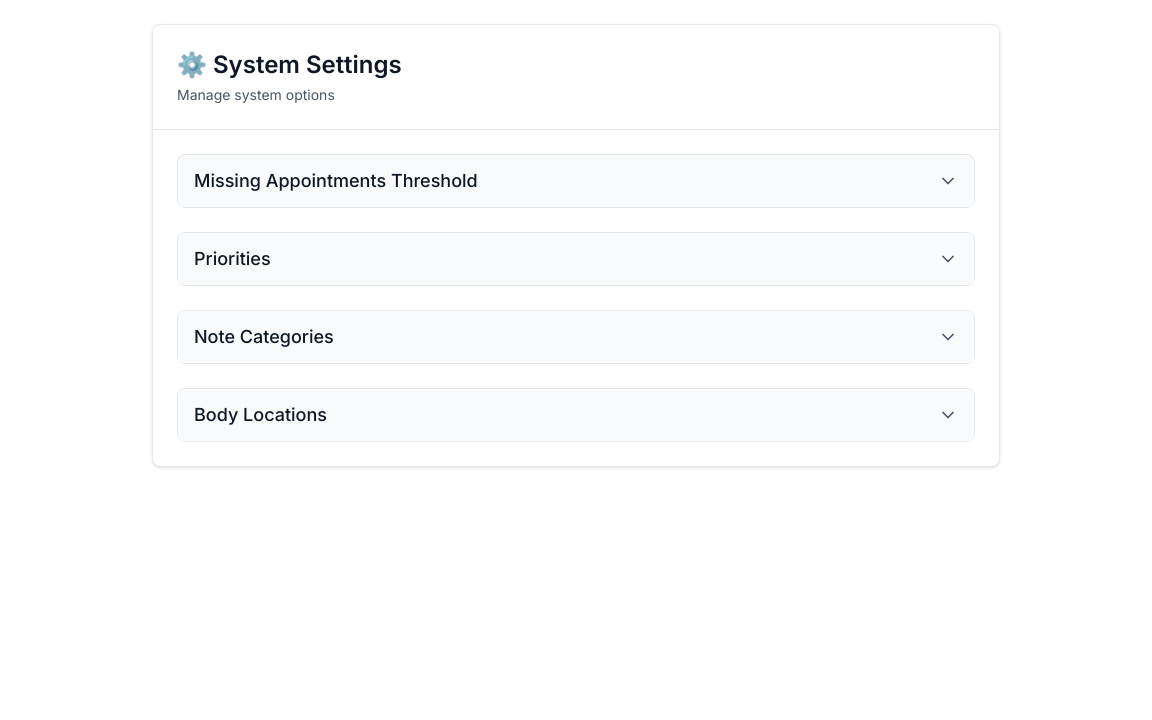
Scenario: SystemSettings › disables input and shows admin message when user is not admin
Click the button "Missing Appointments Threshold" at (336, 180), box [178, 155, 974, 207]
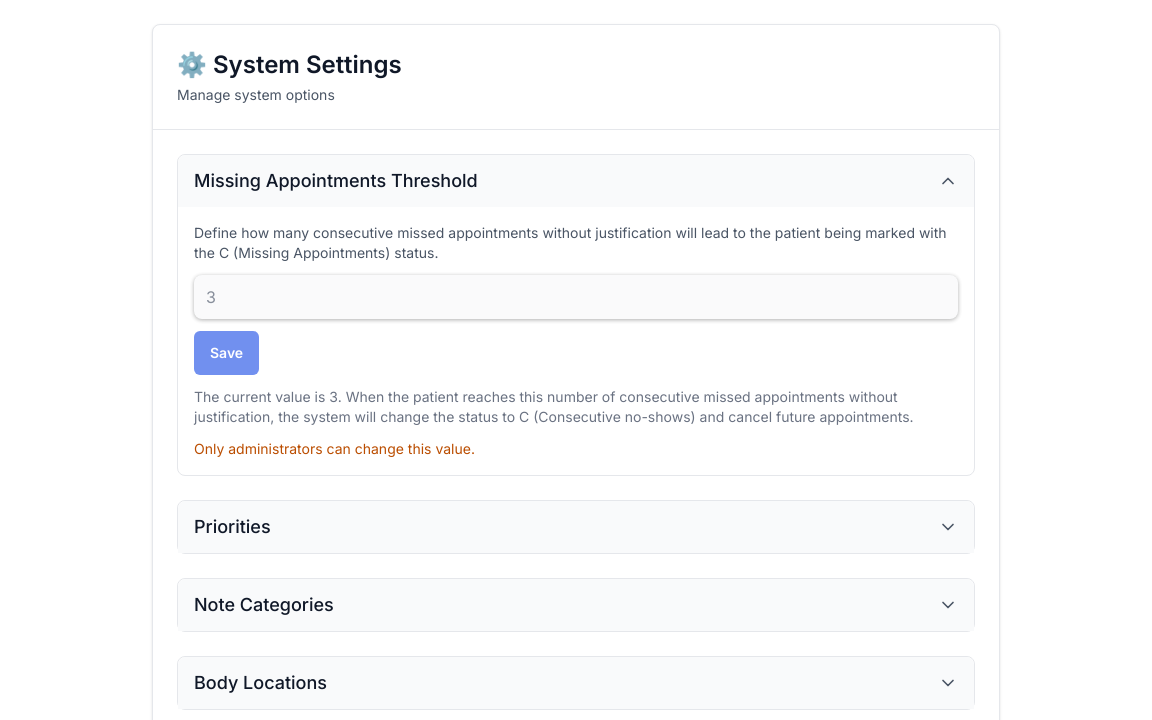
Expected: the number field named "Missing Appointments Threshold (1 to 10)" is disabled, [194, 275, 958, 319]
Expected: the text "Only administrators can change this value." is shown, [194, 440, 475, 457]
